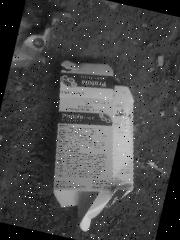paper: (25, 54, 158, 240)
